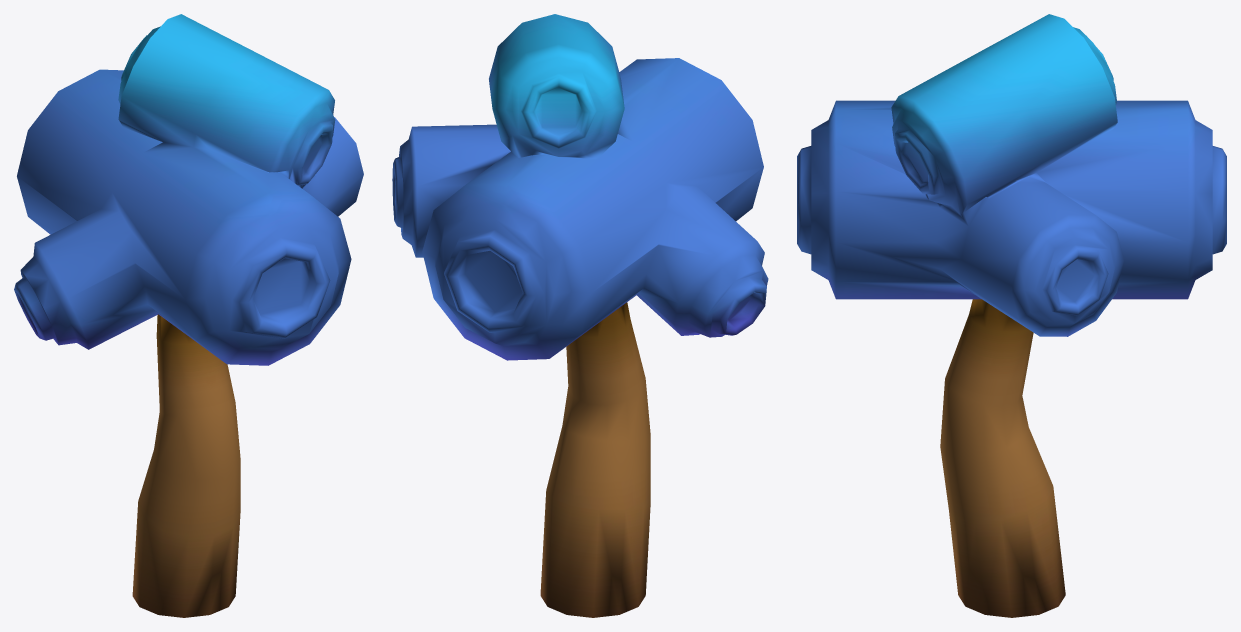
File: Tree_Var4.glb
3 views of the same model, side by side, from view 1: azimuth 30°, elevation 25°; view 2: azimuth 150°, elevation 25°; view 3: azimuth 270°, elevation 25° (orthographic). The views are drawn at different scales.
Visible parts, largest first — view 1: Tree_Cylinder.005; view 2: Tree_Cylinder.005; view 3: Tree_Cylinder.005.
Part boxes in pixels (x1,y1,x2,y2): Tree_Cylinder.005: (14,14,363,617); Tree_Cylinder.005: (392,14,768,617); Tree_Cylinder.005: (797,14,1226,617).
Bounding box in the file's own units: 2.58 × 4 × 2.68.
1 material, 1 textured.
